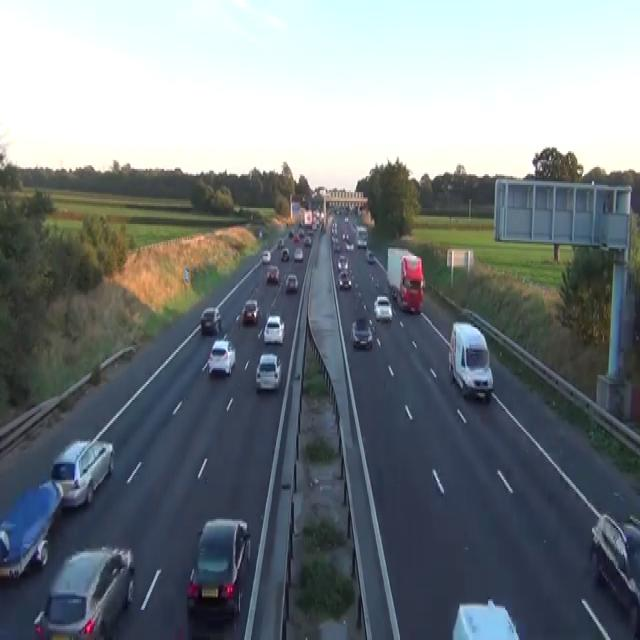Car: (280, 482, 366, 638), (33, 544, 135, 638), (186, 517, 251, 619), (0, 478, 64, 580), (589, 512, 639, 615), (50, 438, 114, 510), (452, 599, 520, 638), (580, 596, 639, 638), (171, 619, 243, 638), (207, 338, 235, 377), (255, 352, 281, 391), (397, 277, 423, 313), (351, 316, 373, 348), (263, 315, 285, 345), (200, 306, 221, 334), (373, 295, 393, 322), (242, 298, 260, 324), (337, 270, 351, 290), (285, 272, 298, 292), (266, 265, 279, 283), (337, 254, 348, 270), (235, 308, 244, 327), (330, 220, 338, 238), (261, 249, 271, 263), (293, 247, 303, 261), (366, 249, 374, 263), (281, 247, 289, 261), (333, 240, 341, 252), (391, 286, 398, 299), (277, 238, 284, 249), (345, 242, 354, 250), (304, 235, 311, 245), (293, 233, 300, 243), (298, 228, 304, 238), (311, 220, 317, 230), (288, 230, 294, 238), (344, 215, 349, 222), (258, 230, 262, 238)
Truck: (448, 320, 493, 400), (386, 245, 425, 313), (356, 226, 367, 247)
